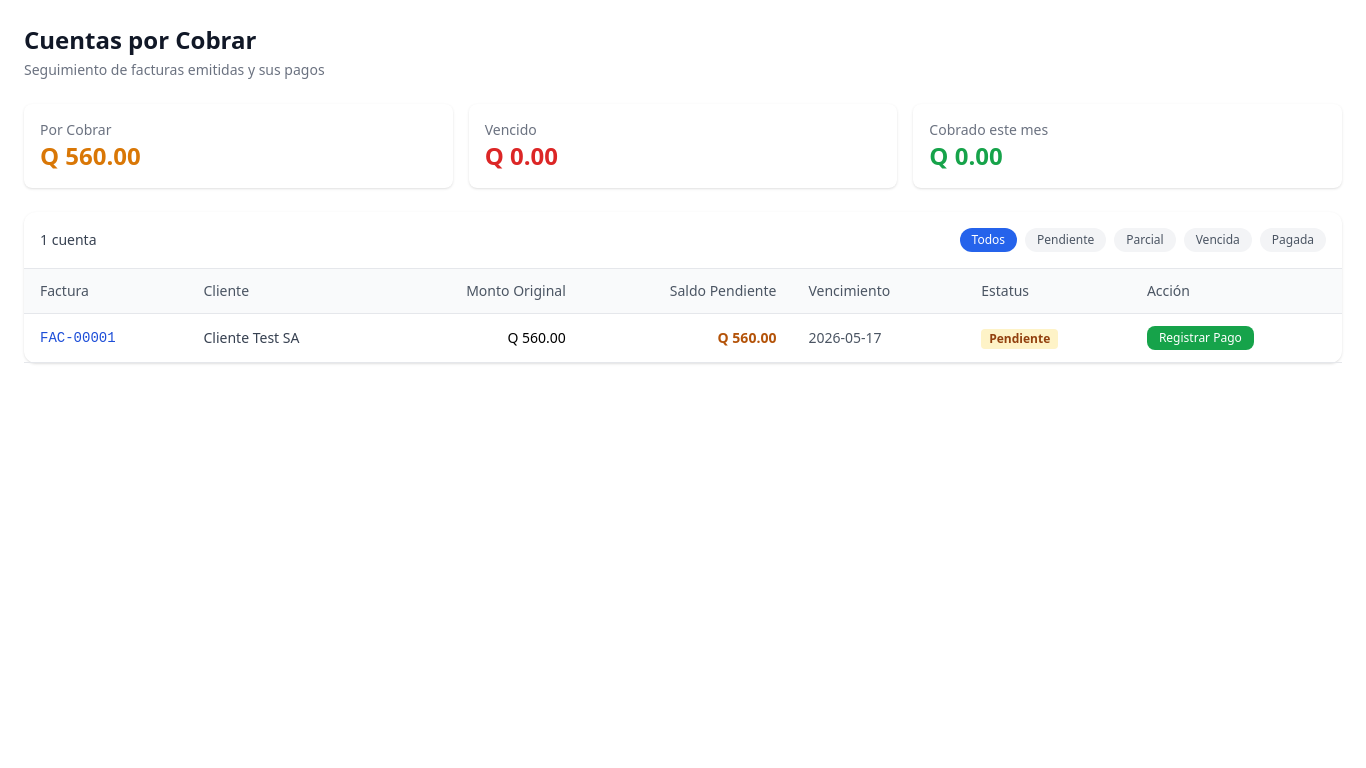
Test case: CxCPage › click en 'Registrar Pago' abre el modal
What coordinates should you click on to do the following:
click the button "Registrar Pago"
I would click on:
 (1200, 338)
Its box is [1147,326,1254,350].
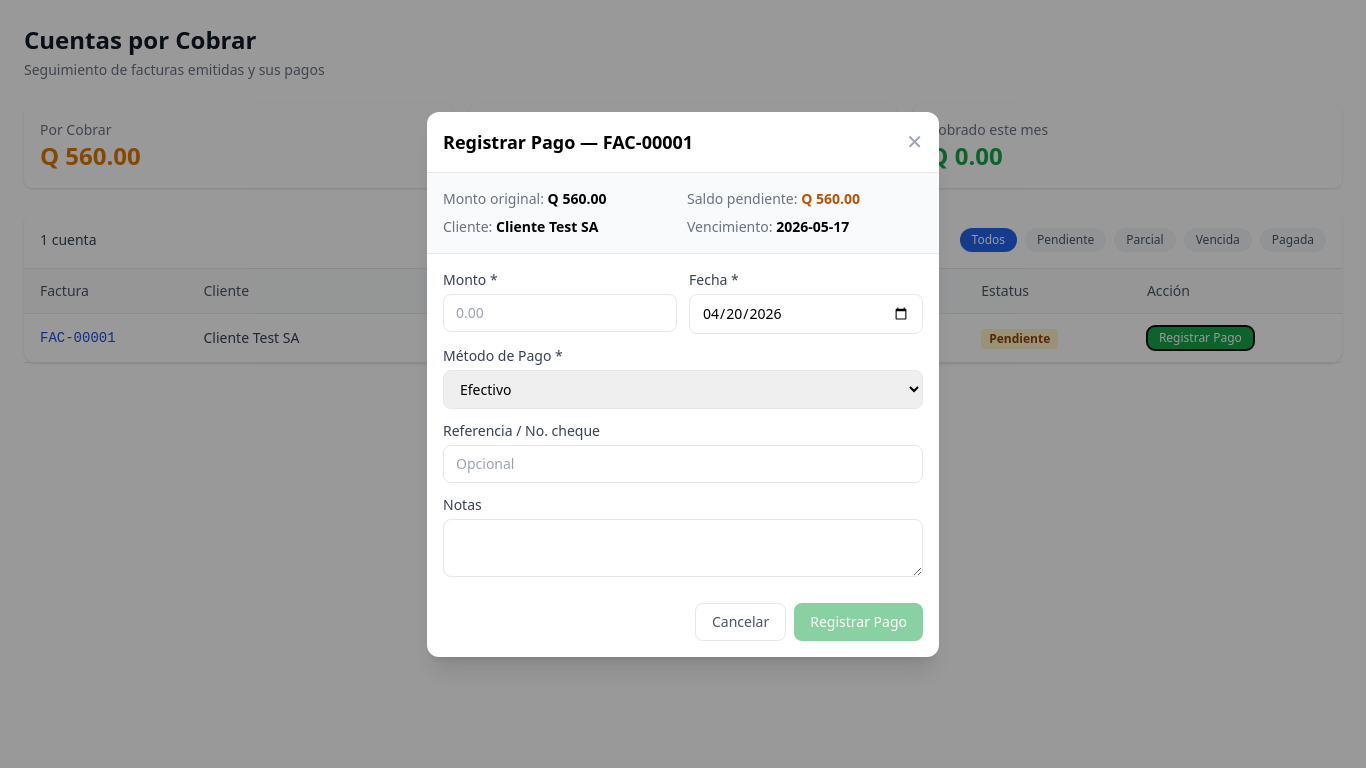
Expected: the heading "Registrar Pago — FAC-00001" is shown, [443,128,693,156]
